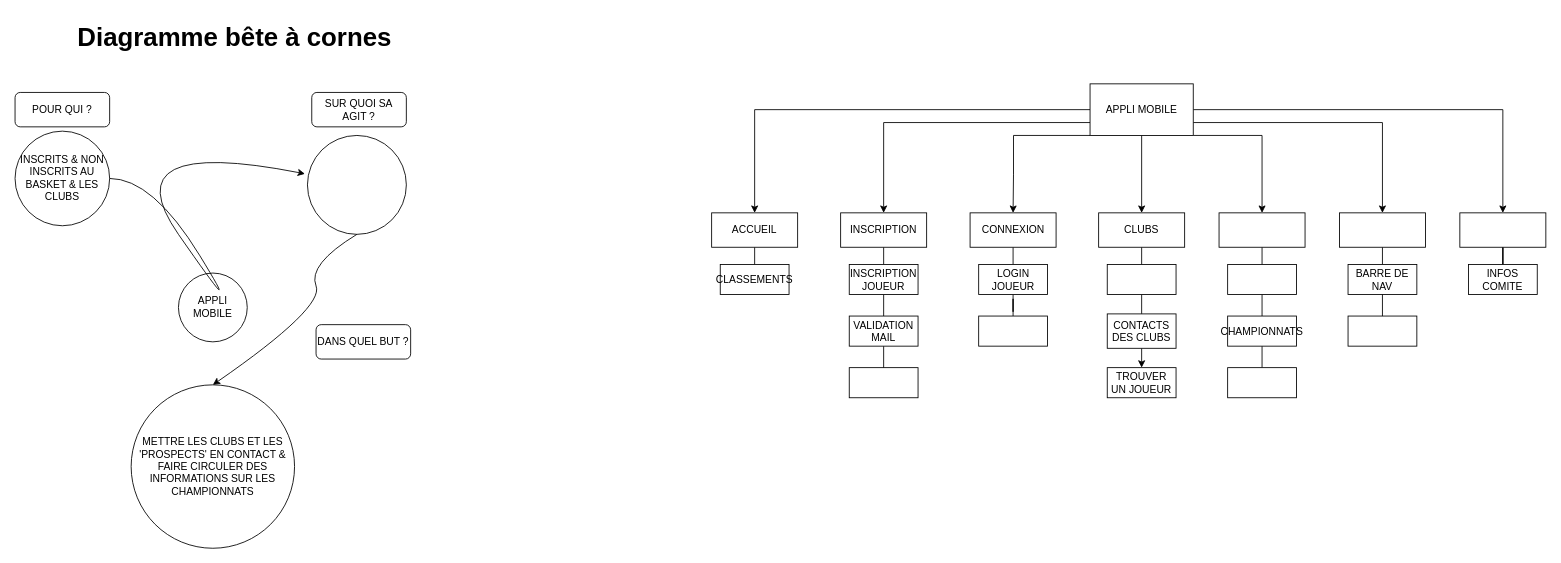
Image size: 1561x563. Some labels were removed from this diagram. The centre of each missing label's shape, as x and y in pixels:
CATEGORIES: point 1261,279
COMMUNICATION: point 356,184
CONTACT: point 1502,229
LISTING DES CLUBS: point 1141,279
LOGIN CLUB: point 1012,330
MENU: point 1382,330
NAVIGATION: point 1382,229
RENCONTRES: point 1261,229
SCORES MATCHS: point 1261,382
TROUVER SON CLUB: point 883,382
